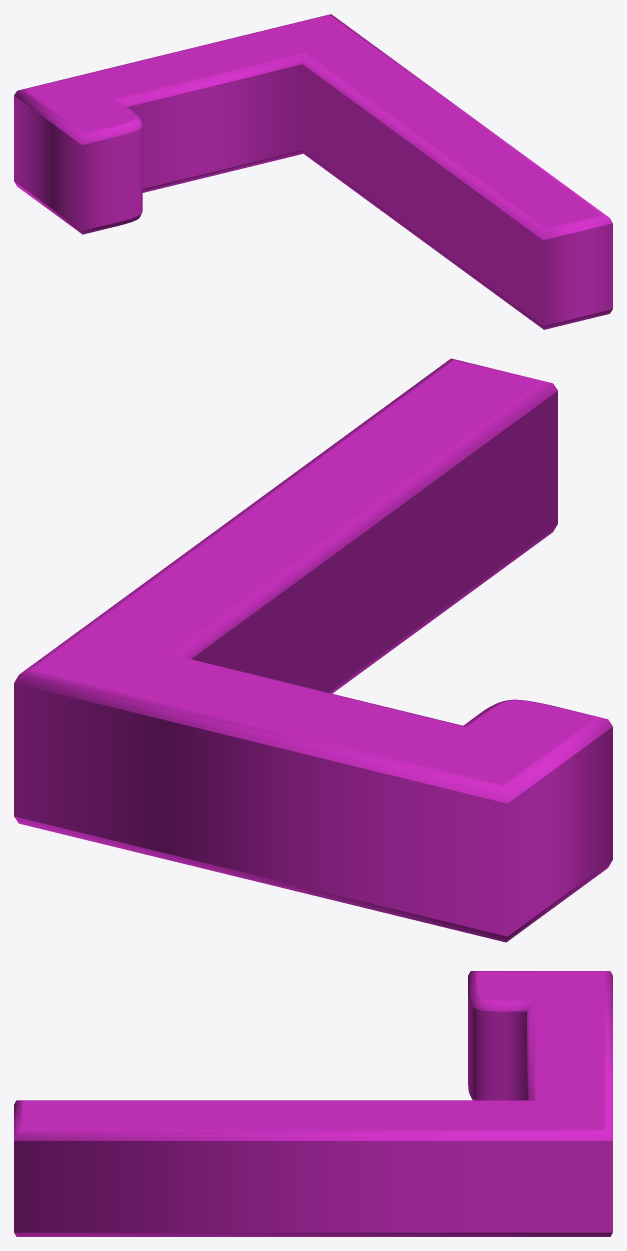
Rendered from Letter_L_Capital_CoolFont.fbx.
3 renders of one model, top to bottom at view 1: azimuth 30°, elevation 25°; view 2: azimuth 150°, elevation 25°; view 3: azimuth 270°, elevation 25°, orthographic. The views are drawn at different scales.
Parts seen in each view (by area): view 1: Letter_L; view 2: Letter_L; view 3: Letter_L.
Boxes of the visible parts, x1,y1,x2,y2 form: Letter_L: (14,14,612,329); Letter_L: (14,358,612,942); Letter_L: (14,971,612,1236).
Bounding box in the file's own units: 0.4657 × 0.14 × 0.712.
